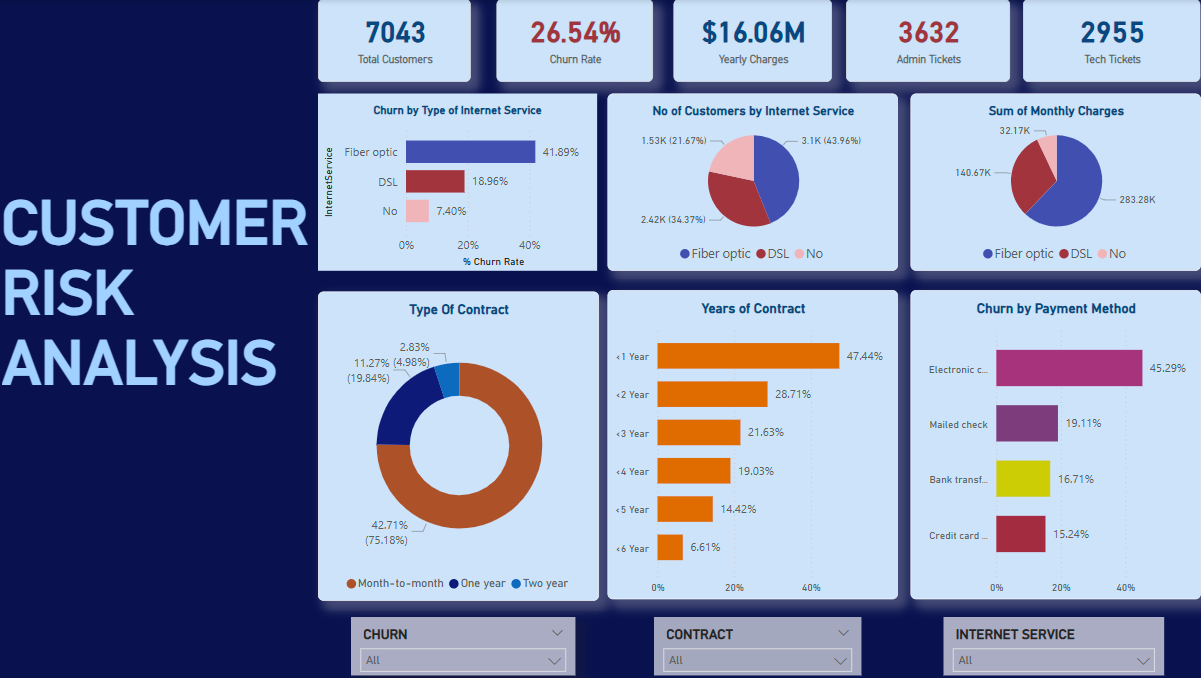

The page's visual inventory and layout, read from the dashboard file:
{"tool":"powerbi","page":{"name":"Customer Churn Risk Analysis Dashboard - 2","canvas":[1280,720],"ordinal":1},"visuals":[{"type":"textbox","box":[0,194,356,400],"z":1000},{"type":"slicer","fields":{"Values":["Churn.Churn"]},"box":[376,656,238,62],"z":3000},{"type":"slicer","fields":{"Values":["Churn.InternetService"]},"box":[1004,656,234,62],"z":4000},{"type":"slicer","fields":{"Values":["Churn.Contract"]},"box":[696,656,220,62],"z":6000},{"type":"card","fields":{"Values":["CountNonNull(01 Churn-Dataset.customerID)"]},"box":[340,0,162,88],"z":7000},{"type":"card","fields":{"Values":["Churn.% Churn Rate"]},"box":[530,0,166,88],"z":8000},{"type":"card","fields":{"Values":["Sum(Churn.TotalCharges)"]},"box":[718,0,168,88],"z":9000},{"type":"card","fields":{"Values":["Sum(Churn.numAdminTickets)"]},"box":[900,0,174,88],"z":10000},{"type":"card","fields":{"Values":["Sum(Churn.numTechTickets)"]},"box":[1088,0,188,88],"z":11000},{"type":"clusteredBarChart","title":"Churn by Type of Internet Service","fields":{"Category":["Churn.InternetService"],"Y":["Churn.% Churn Rate"]},"box":[340,100.7,296,188],"z":12000},{"type":"pieChart","title":"No of Customers by Internet Service","fields":{"Y":["CountNonNull(Churn.customerID)"],"Category":["Churn.InternetService"]},"box":[648,100.7,308,188],"z":13000},{"type":"pieChart","title":"Sum of Monthly Charges","fields":{"Category":["Churn.InternetService"],"Y":["Sum(Churn.MonthlyCharges)"]},"box":[968,100.7,308,188],"z":14000},{"type":"donutChart","title":"Type Of Contract","fields":{"Category":["Churn.Contract"],"Y":["Churn.% Churn Rate"]},"box":[340,310.7,298,328],"z":15000},{"type":"clusteredBarChart","title":"Years of Contract","fields":{"Category":["Churn.Tenure(in years)"],"Y":["Churn.% Churn Rate"]},"box":[648,308.7,308,328],"z":16000},{"type":"clusteredBarChart","title":"Churn by Payment Method","fields":{"Category":["Churn.PaymentMethod"],"Y":["Churn.% Churn Rate"]},"box":[968,308.7,308,328],"z":17000}]}

Visuals, with their boxes in screenshot pixels (x1, y1, x2, y2), scaled from the page's 1280x720 canvas onto the 1201x678 screenshot:
textbox: <region>0, 183, 334, 559</region>
slicer - Churn.Churn: <region>353, 618, 576, 676</region>
slicer - Churn.InternetService: <region>942, 618, 1162, 676</region>
slicer - Churn.Contract: <region>653, 618, 859, 676</region>
card - CountNonNull(01 Churn-Dataset.customerID): <region>319, 0, 471, 83</region>
card - Churn.% Churn Rate: <region>497, 0, 653, 83</region>
card - Sum(Churn.TotalCharges): <region>674, 0, 831, 83</region>
card - Sum(Churn.numAdminTickets): <region>844, 0, 1008, 83</region>
card - Sum(Churn.numTechTickets): <region>1021, 0, 1197, 83</region>
"Churn by Type of Internet Service" clusteredBarChart: <region>319, 95, 597, 272</region>
"No of Customers by Internet Service" pieChart: <region>608, 95, 897, 272</region>
"Sum of Monthly Charges" pieChart: <region>908, 95, 1197, 272</region>
"Type Of Contract" donutChart: <region>319, 293, 599, 601</region>
"Years of Contract" clusteredBarChart: <region>608, 291, 897, 600</region>
"Churn by Payment Method" clusteredBarChart: <region>908, 291, 1197, 600</region>
